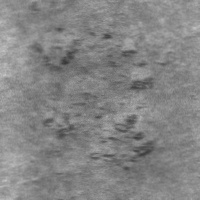rolled-in_scale: (37, 105, 168, 173), (36, 30, 128, 117), (109, 35, 175, 136)
